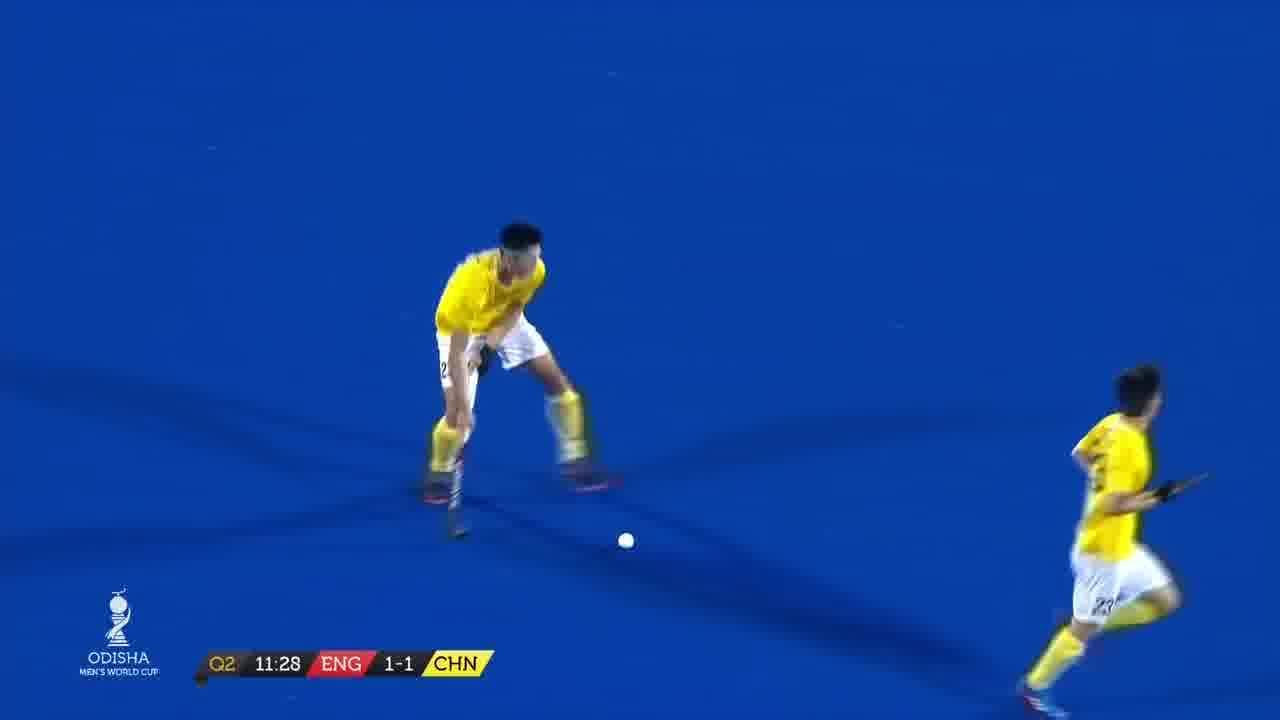ball: (606, 524, 648, 562)
